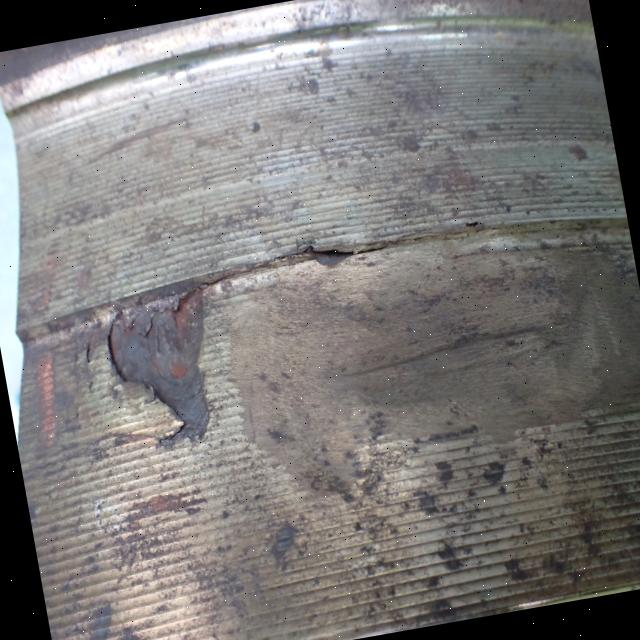Contact_Fatigue_Cracks: (206, 205, 484, 303)
Peeling: (99, 285, 232, 457)
